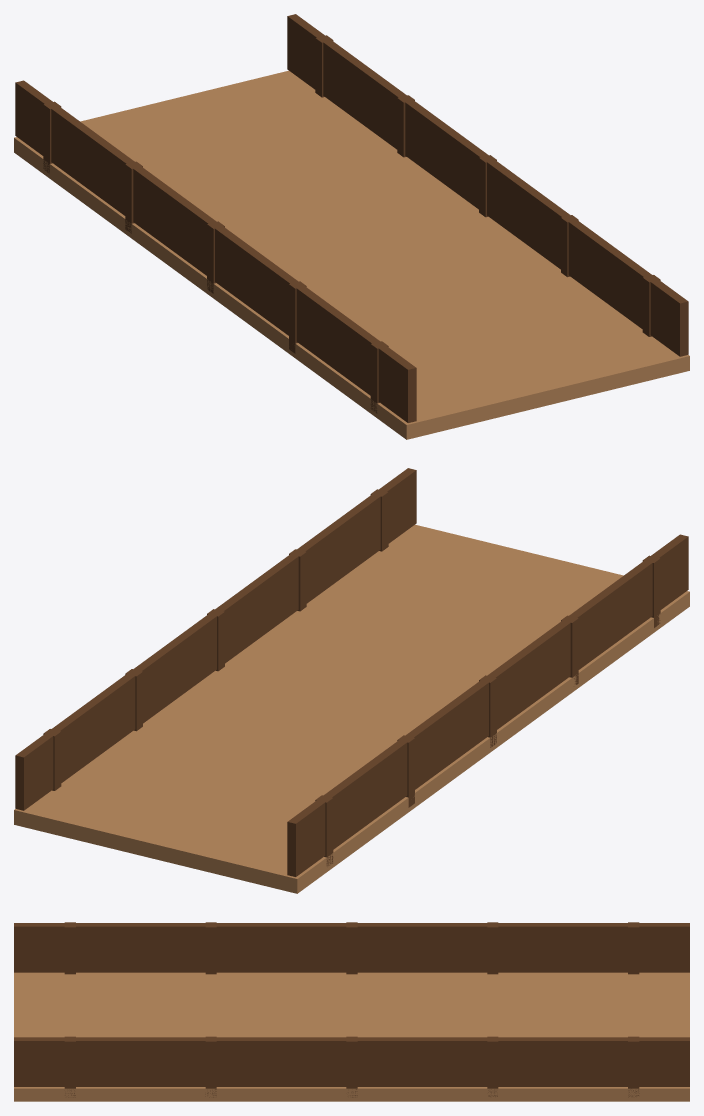
Rendered from wooden-bridge.glb.
3 renders of one model, top to bottom at view 1: azimuth 30°, elevation 25°; view 2: azimuth 150°, elevation 25°; view 3: azimuth 270°, elevation 25°, orthographic. The views are drawn at different scales.
Parts seen in each view (by area): view 1: bridge; view 2: bridge; view 3: bridge.
Part boxes in pixels (x1=…): bridge: x1=14, y1=14, x2=689, y2=439; bridge: x1=14, y1=468, x2=689, y2=893; bridge: x1=14, y1=922, x2=689, y2=1101.
Size of the model in its own units: 5 by 1.17 by 12.
